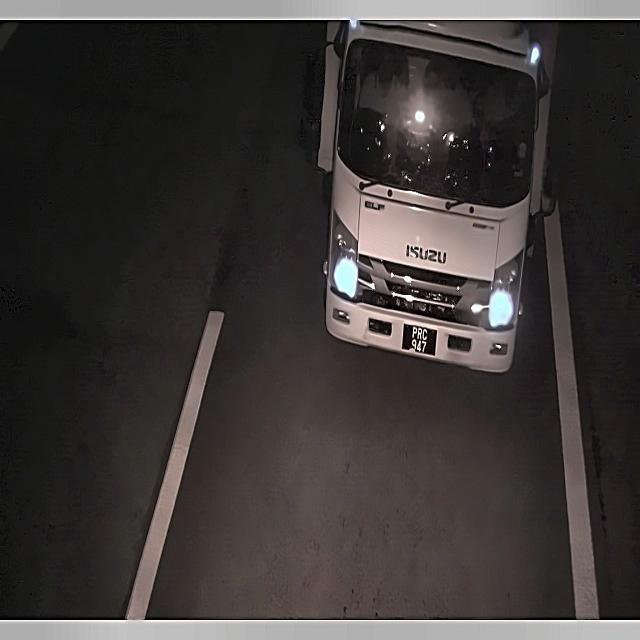car: (402, 316, 435, 363)
